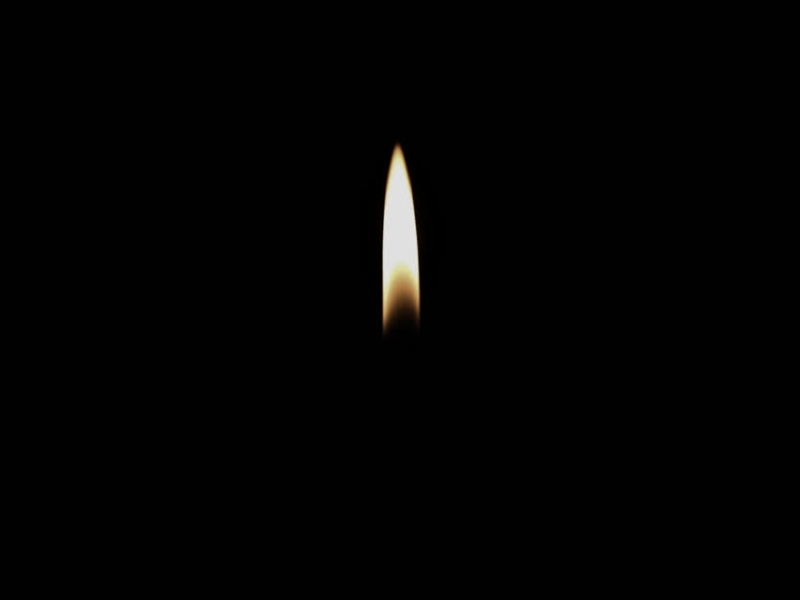fire: (381, 146, 423, 328)
